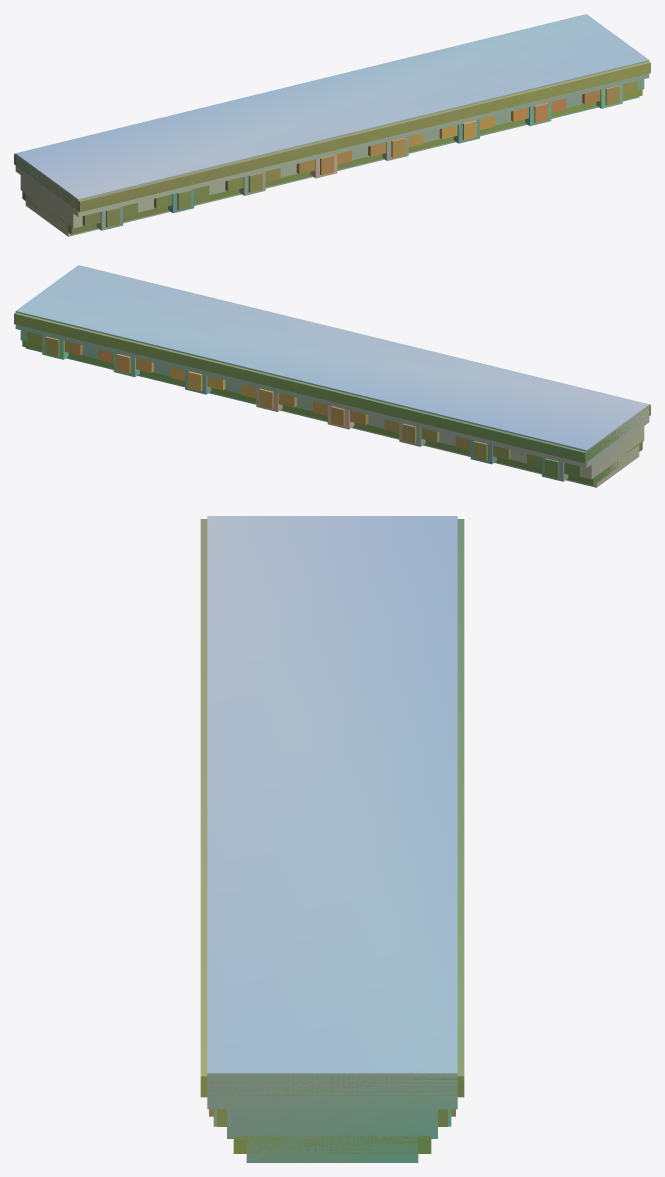
Rendered from palace_cornice_4m.glb.
3 views of the same model, one above another, from view 1: azimuth 30°, elevation 25°; view 2: azimuth 150°, elevation 25°; view 3: azimuth 270°, elevation 25° (orthographic). The views are drawn at different scales.
Visible parts, largest first — view 1: palace_cornice, palace_cornice_gild; view 2: palace_cornice, palace_cornice_gild; view 3: palace_cornice, palace_cornice_gild.
Part boxes in pixels (left/top/right/bottom): palace_cornice: left=15, top=14, right=649, bottom=236; palace_cornice_gild: left=14, top=16, right=650, bottom=234; palace_cornice: left=15, top=265, right=649, bottom=487; palace_cornice_gild: left=14, top=267, right=650, bottom=485; palace_cornice: left=207, top=516, right=457, bottom=1162; palace_cornice_gild: left=200, top=519, right=464, bottom=1153.
Size of the model in its own units: 4 by 0.3 by 0.8.
